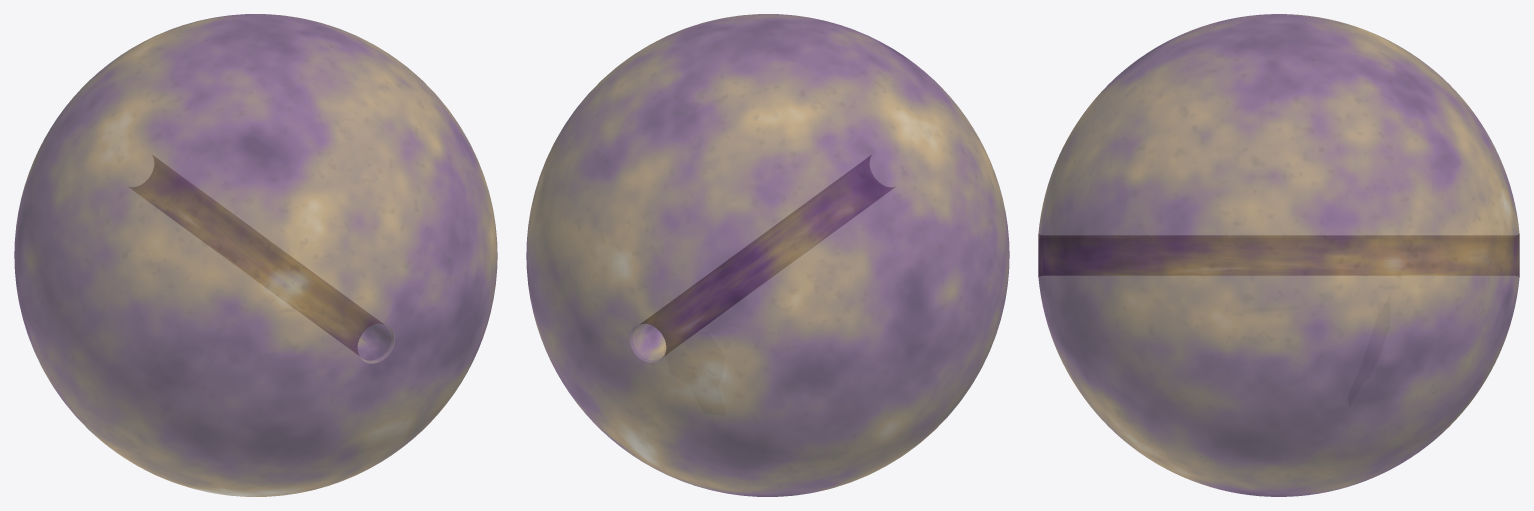
Rendered from super-seven-12mm.glb.
The picture shows the model from 3 angles, left to right: view 1: azimuth 30°, elevation 25°; view 2: azimuth 150°, elevation 25°; view 3: azimuth 270°, elevation 25°; orthographic projection.
Parts seen in each view (by area): view 1: super-seven.001; view 2: super-seven.001; view 3: super-seven.001.
Part boxes in pixels (x1,y1,x2,y2): super-seven.001: (14,14,497,496); super-seven.001: (526,14,1009,496); super-seven.001: (1038,14,1519,496).
Bounding box in the file's own units: 0.012 × 0.012 × 0.012.
2 materials, 1 textured.
